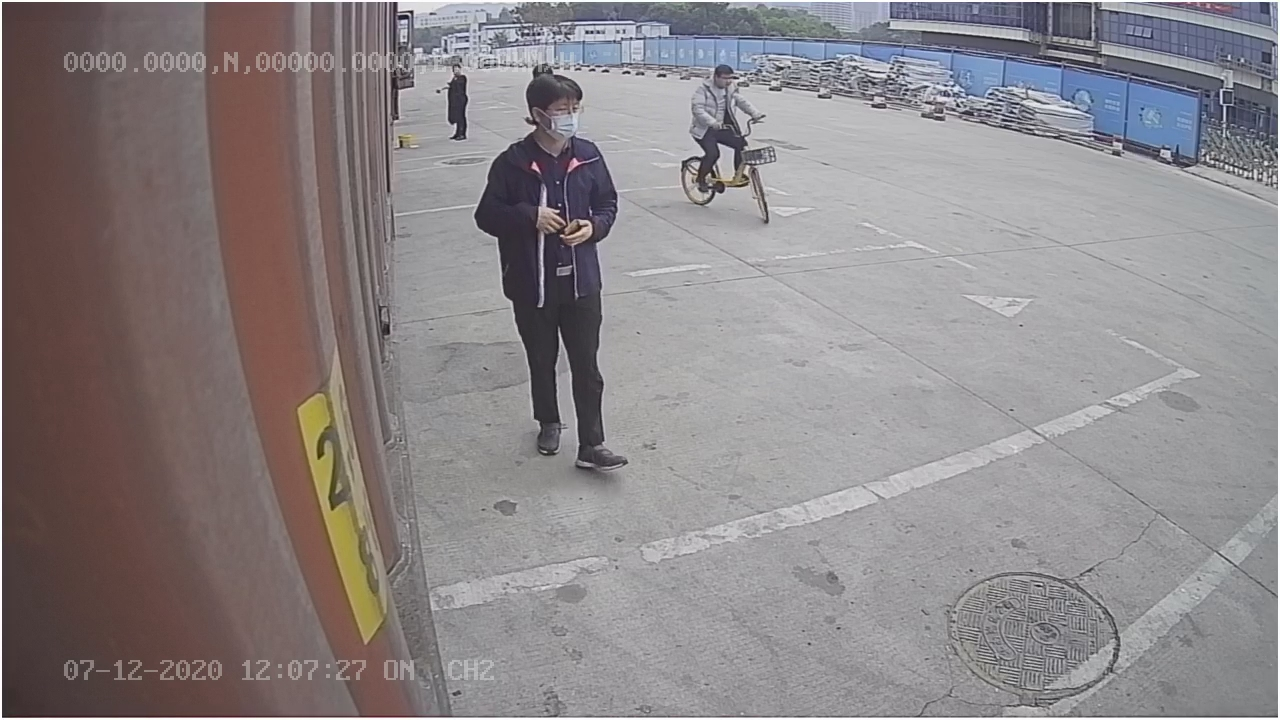person: (475, 75, 634, 475)
